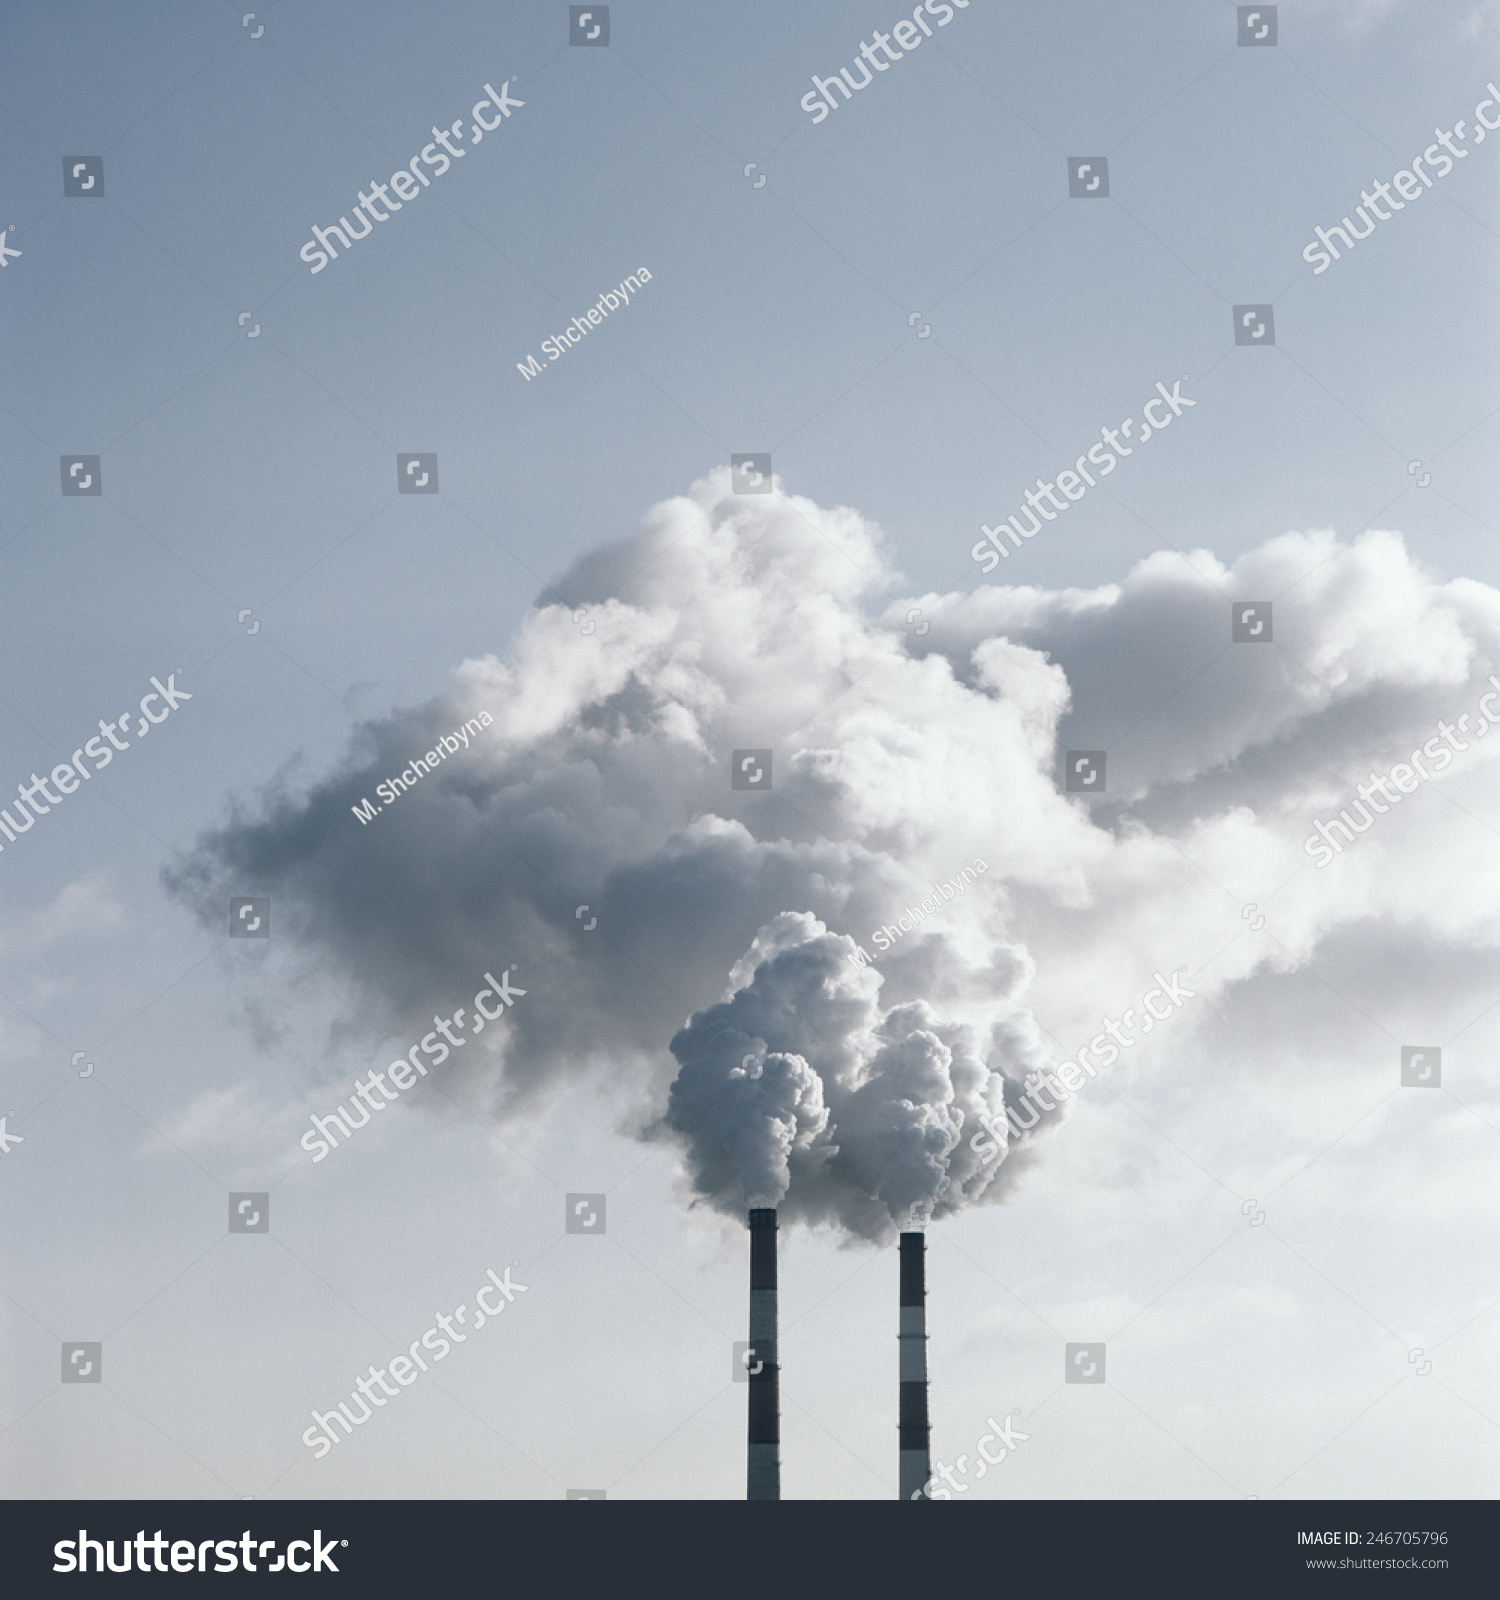dust: (608, 873, 846, 1241), (818, 918, 1069, 1255)
